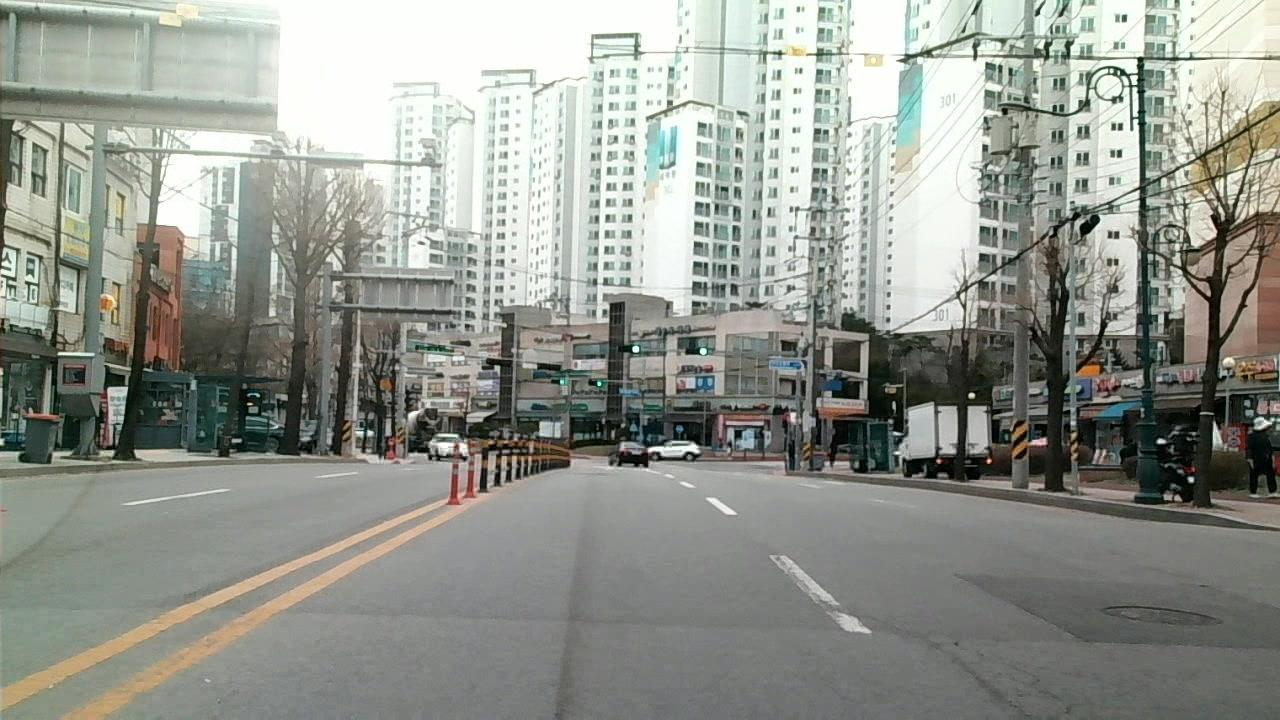banner: (932, 641, 1037, 713)
